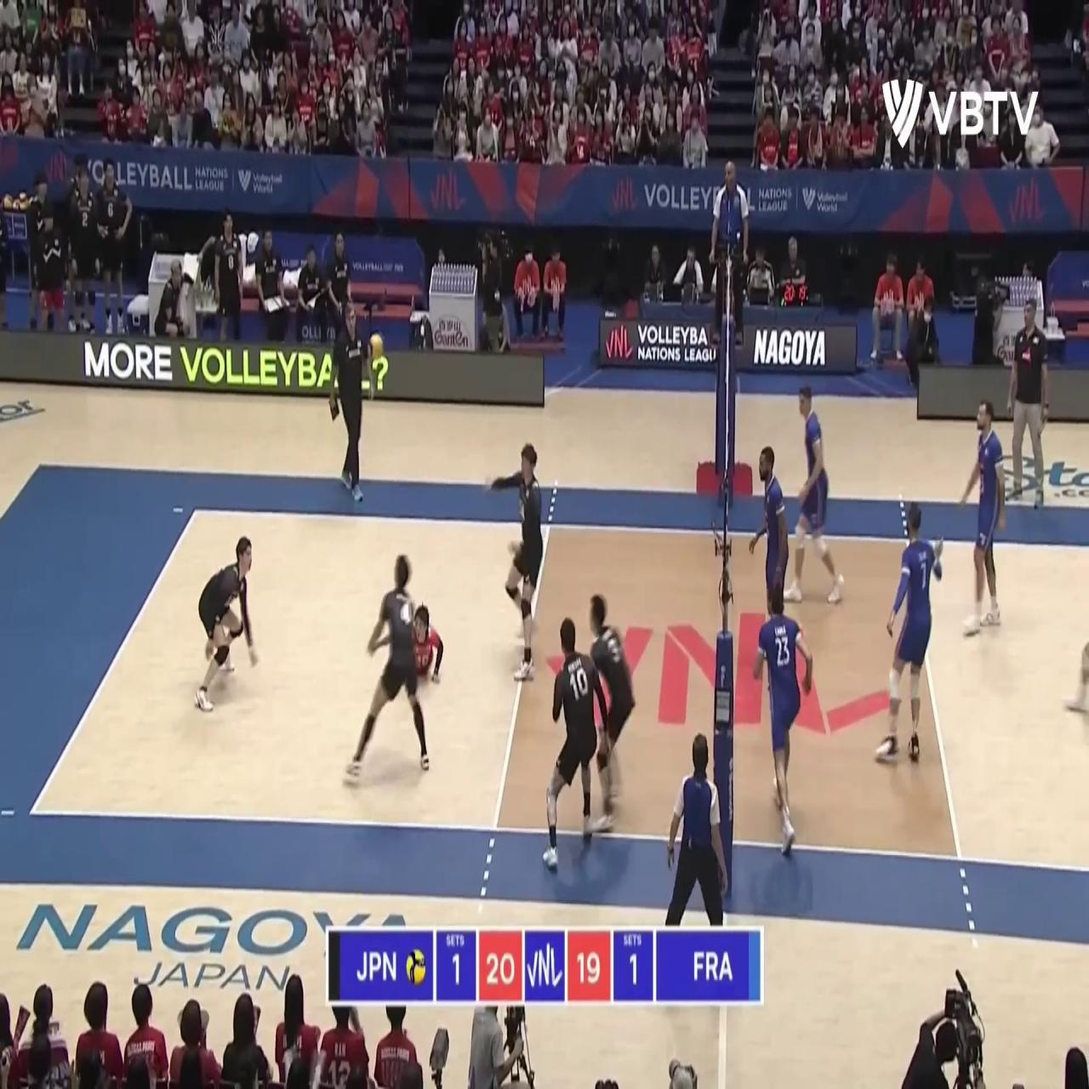ball: (367, 333, 384, 362)
